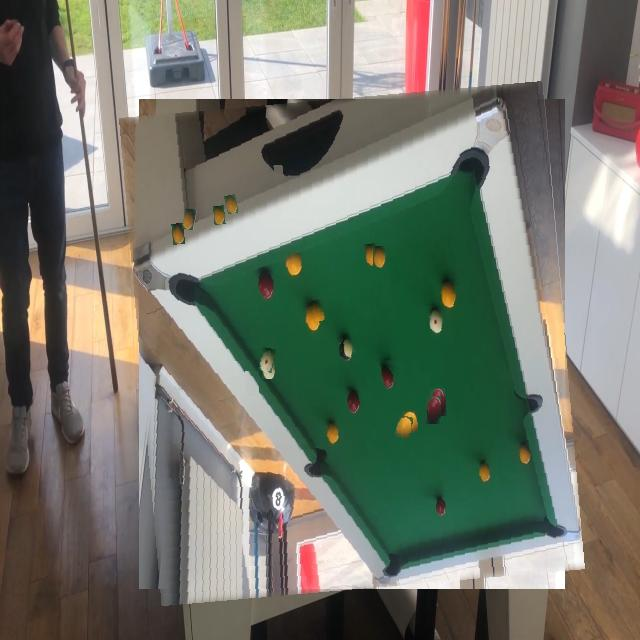Ball: (381, 360, 398, 388), (426, 396, 441, 424), (351, 326, 367, 352), (395, 416, 412, 439), (259, 348, 275, 372), (311, 299, 327, 321), (246, 372, 259, 398), (349, 274, 363, 298), (373, 246, 386, 268), (183, 209, 196, 230), (225, 195, 238, 214), (273, 165, 284, 183)
Billiard table: (129, 90, 576, 598)
